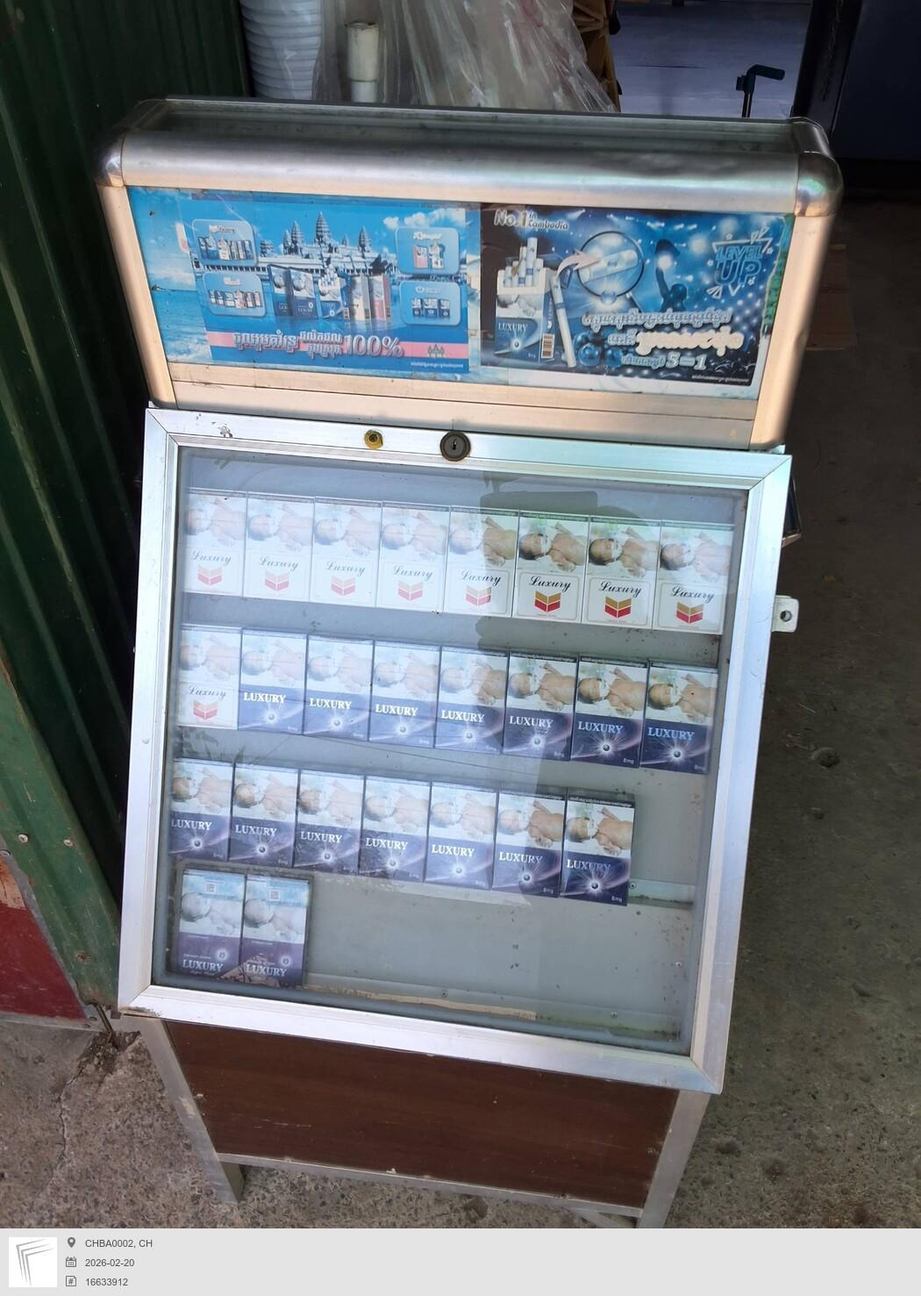cigarette_pack: (651, 516, 735, 644), (512, 512, 584, 653), (228, 881, 314, 999), (588, 511, 656, 656), (296, 630, 382, 739), (167, 874, 246, 992), (442, 504, 510, 639), (484, 798, 568, 907), (414, 788, 498, 888), (226, 767, 307, 867), (239, 634, 311, 746), (167, 627, 239, 737), (433, 655, 518, 748), (316, 498, 375, 630), (247, 490, 307, 618), (575, 665, 653, 763), (370, 646, 444, 748), (363, 774, 432, 883), (177, 483, 240, 602), (646, 667, 718, 769), (560, 800, 633, 900), (386, 504, 440, 632), (168, 753, 232, 860), (291, 774, 368, 860), (509, 658, 575, 756)
